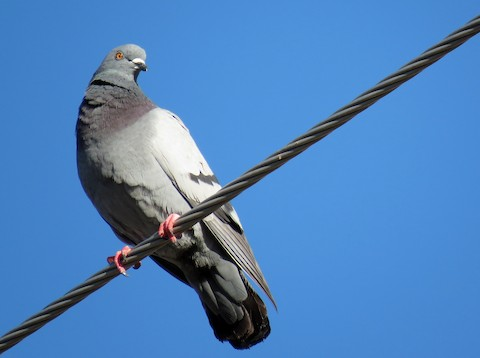pigeon: (68, 39, 282, 352)
